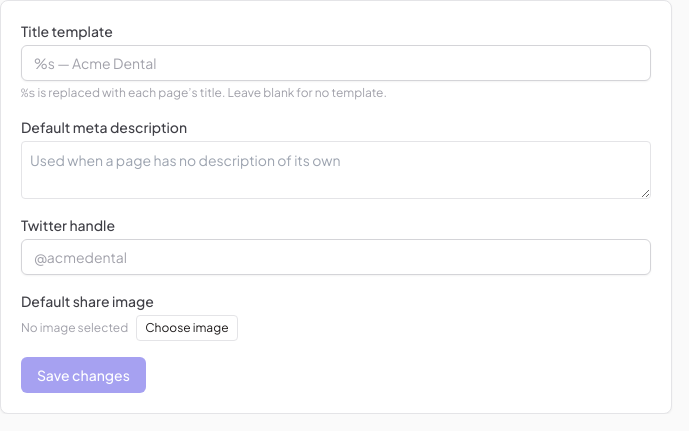
SeoSettingsTab (P9-T9.8) › PATCHes only the populated seo_defaults fields
This screenshot has width=689, height=431.
Type "%s — Acme" into the field labelled "Title template" at (336,63), box [21, 45, 651, 81]
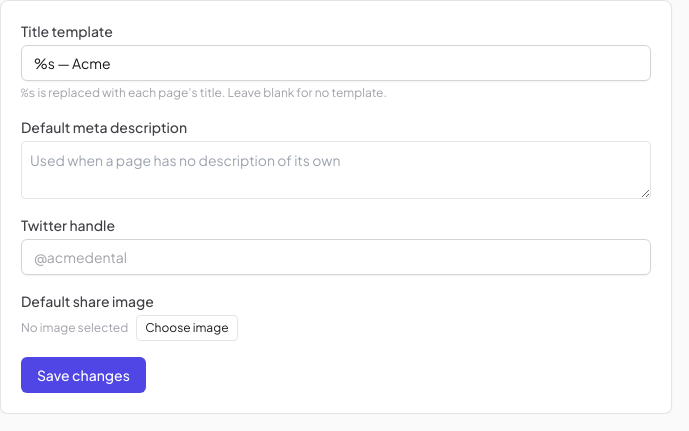
Type "@acme" into the field labelled "Twitter handle" at (336,257), box [21, 239, 651, 275]
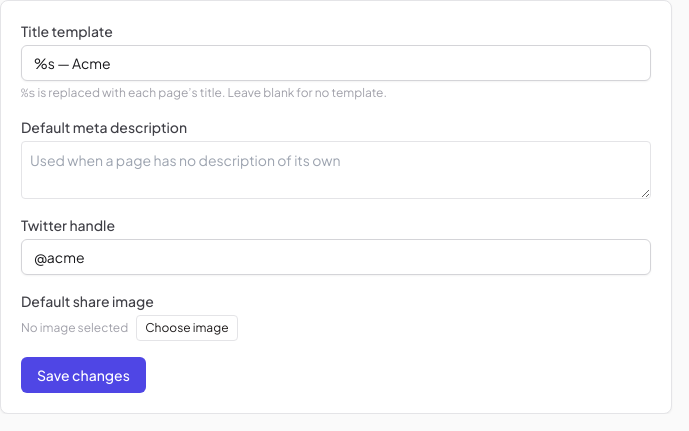
Click the button "Save changes" at (83,375), box [21, 357, 146, 393]
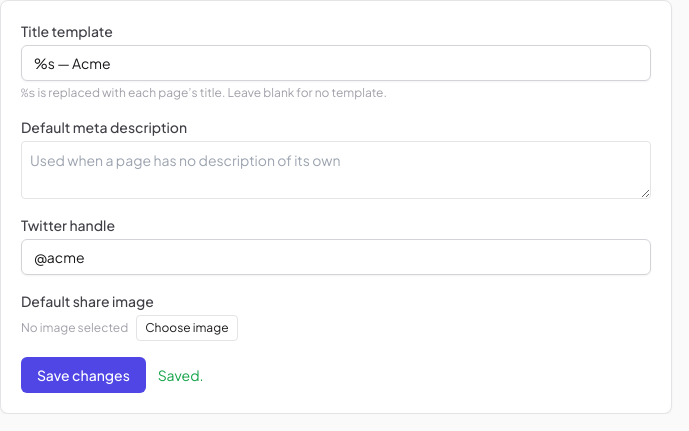
Result: the text "Saved." is shown at [158, 365, 204, 385]
